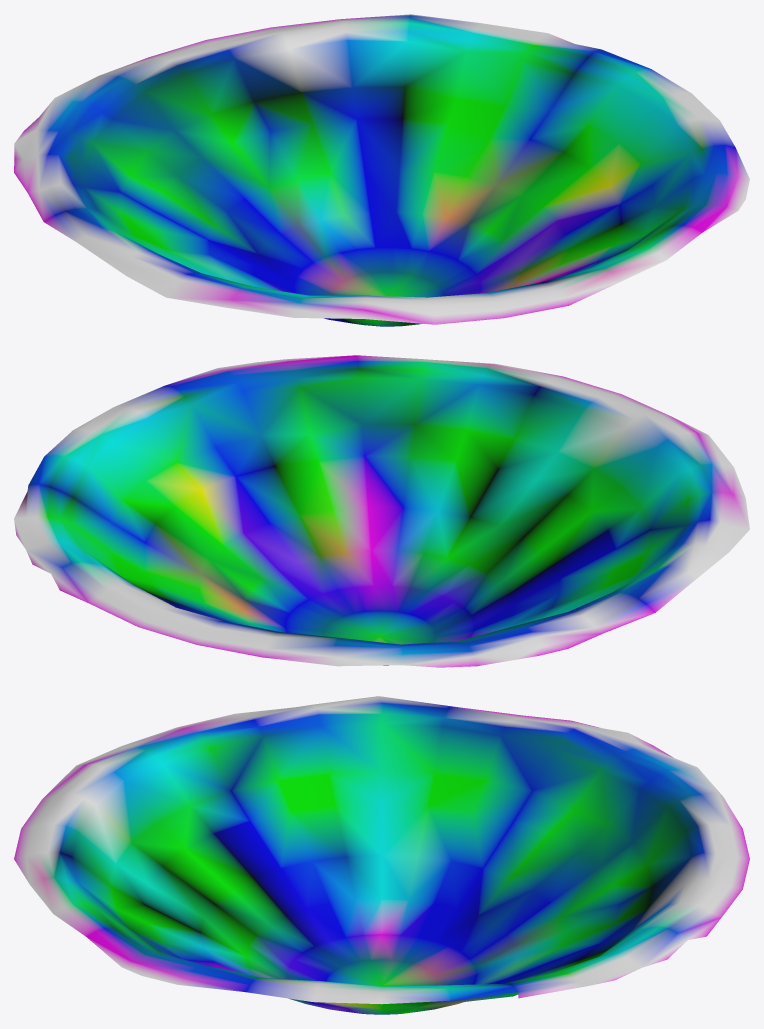
The model's file is s4_crater_2.glb.
The picture shows the model from 3 angles, top to bottom: view 1: azimuth 30°, elevation 25°; view 2: azimuth 150°, elevation 25°; view 3: azimuth 270°, elevation 25°; orthographic projection.
Parts seen in each view (by area): view 1: SM_SmallCrater_Test_LOD0_0; view 2: SM_SmallCrater_Test_LOD0_0; view 3: SM_SmallCrater_Test_LOD0_0.
Part boxes in pixels (x1=…): SM_SmallCrater_Test_LOD0_0: x1=14, y1=14, x2=749, y2=326; SM_SmallCrater_Test_LOD0_0: x1=14, y1=355, x2=749, y2=667; SM_SmallCrater_Test_LOD0_0: x1=14, y1=696, x2=749, y2=1014.
Bounding box in the file's own units: 18.81 × 4.06 × 19.17.
